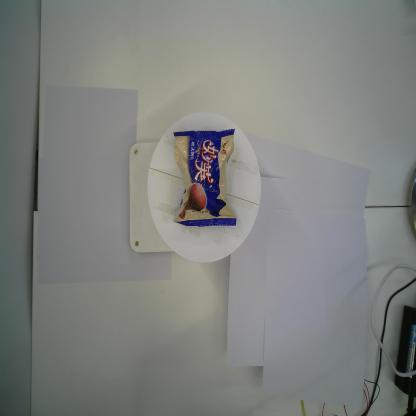Dessert: (173, 127, 237, 228)
